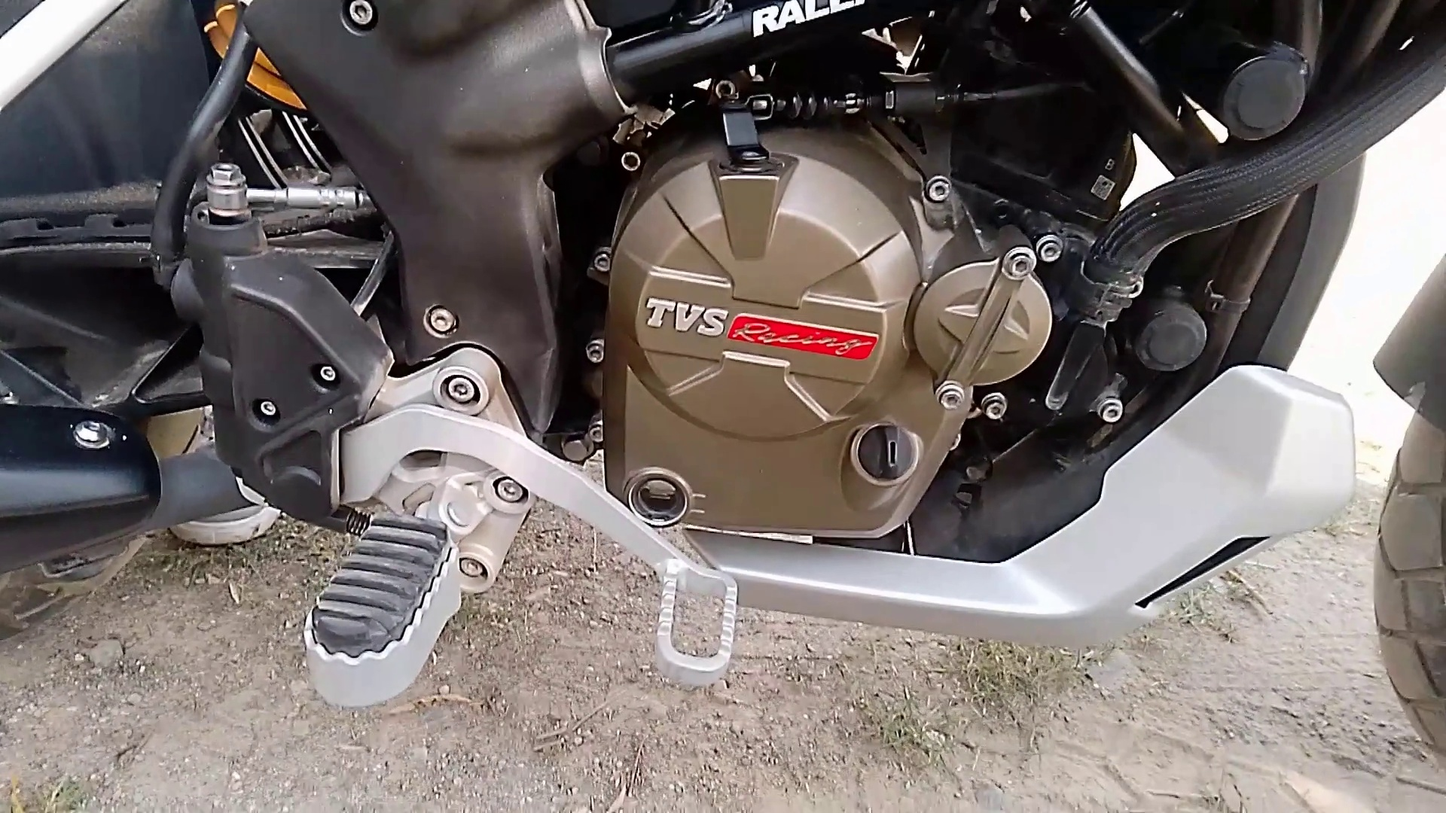bike-engine: (602, 117, 1063, 551)
bike-engine-level: (621, 464, 691, 530)
bike-oil-cap: (841, 416, 923, 494)
